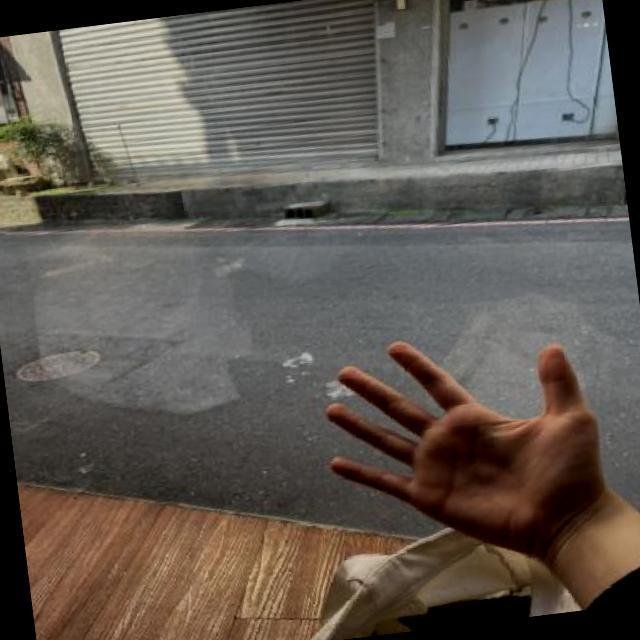hand: (320, 312, 638, 554)
